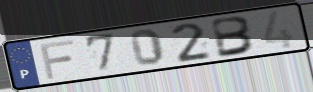0: (128, 27, 167, 68)
2: (170, 22, 215, 65)
4: (262, 9, 297, 50)
7: (84, 32, 118, 75)
B: (210, 15, 258, 60)
F: (38, 38, 77, 81)
